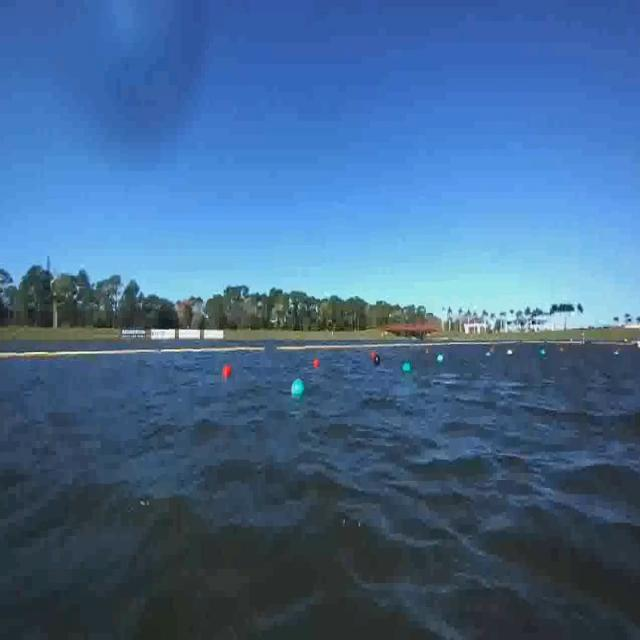green-buoy: (398, 353, 414, 377), (291, 377, 304, 395)
red-buoy: (222, 364, 232, 378), (314, 358, 320, 368)
